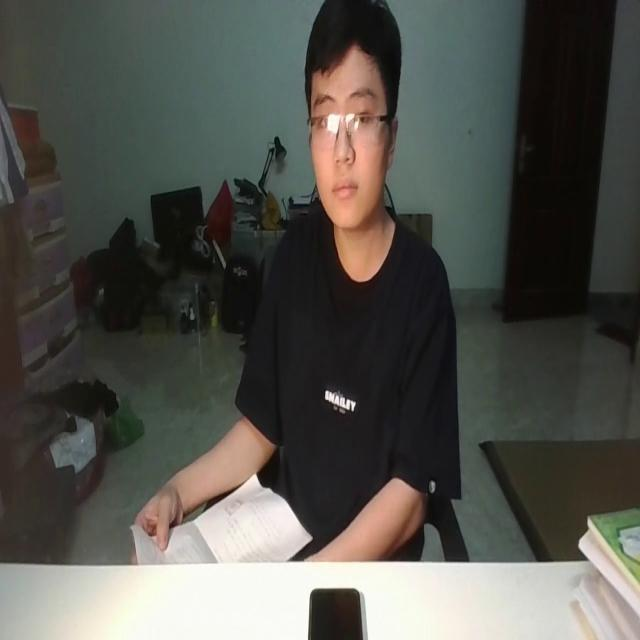book: (131, 472, 316, 564)
phone: (306, 588, 364, 640)
student: (126, 0, 460, 573)
